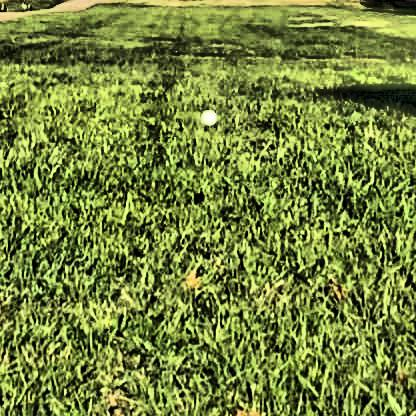golfball: (199, 106, 214, 121)
